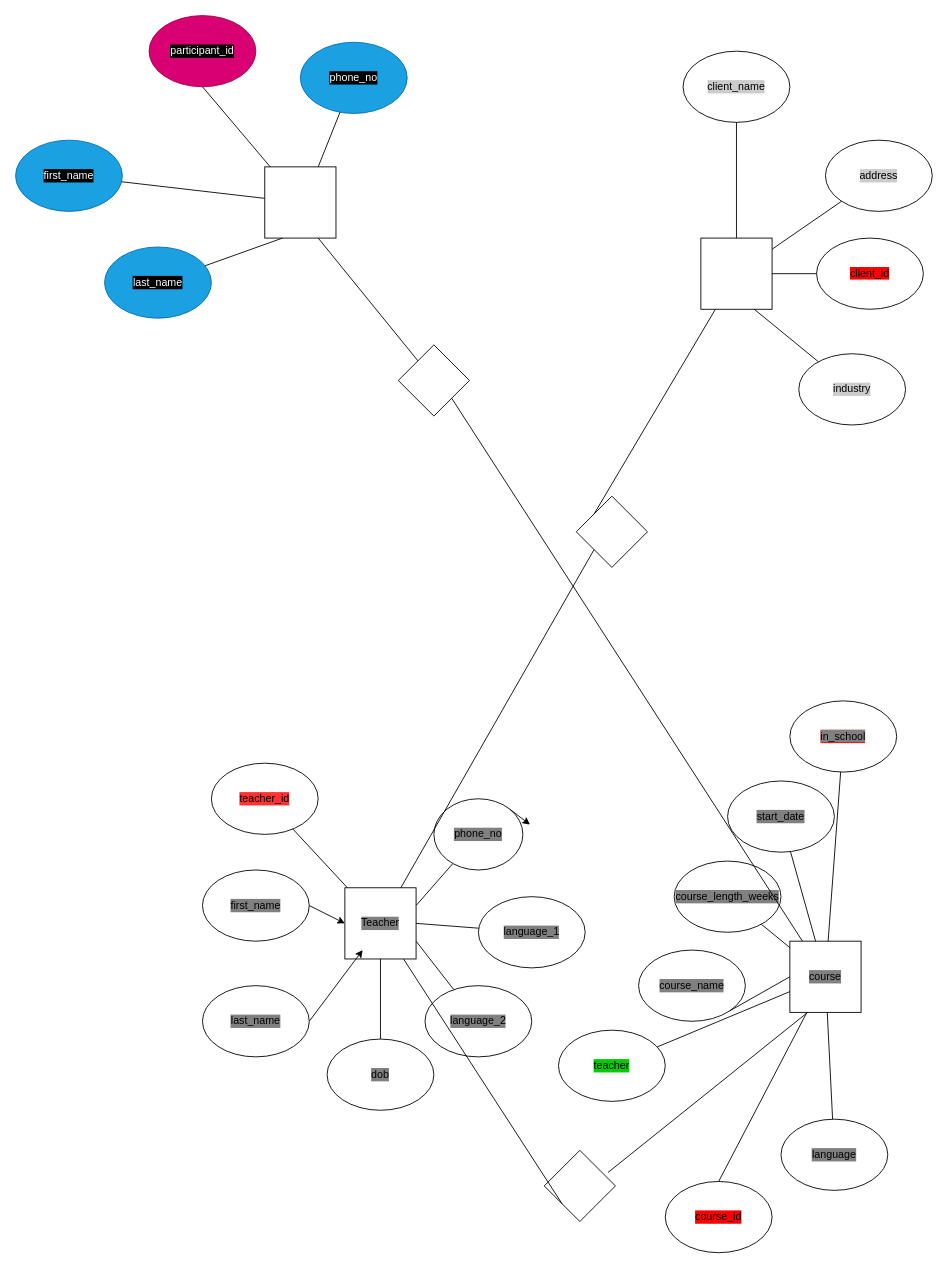
This 948x1268 diagram has some shape labels left out. Each missing label, with the centre of its shape:
"Client" belongs at point (736, 273).
"offers" belongs at point (611, 531).
"participant" belongs at point (300, 202).
"takes" belongs at point (433, 380).
"teaches" belongs at point (579, 1185).
